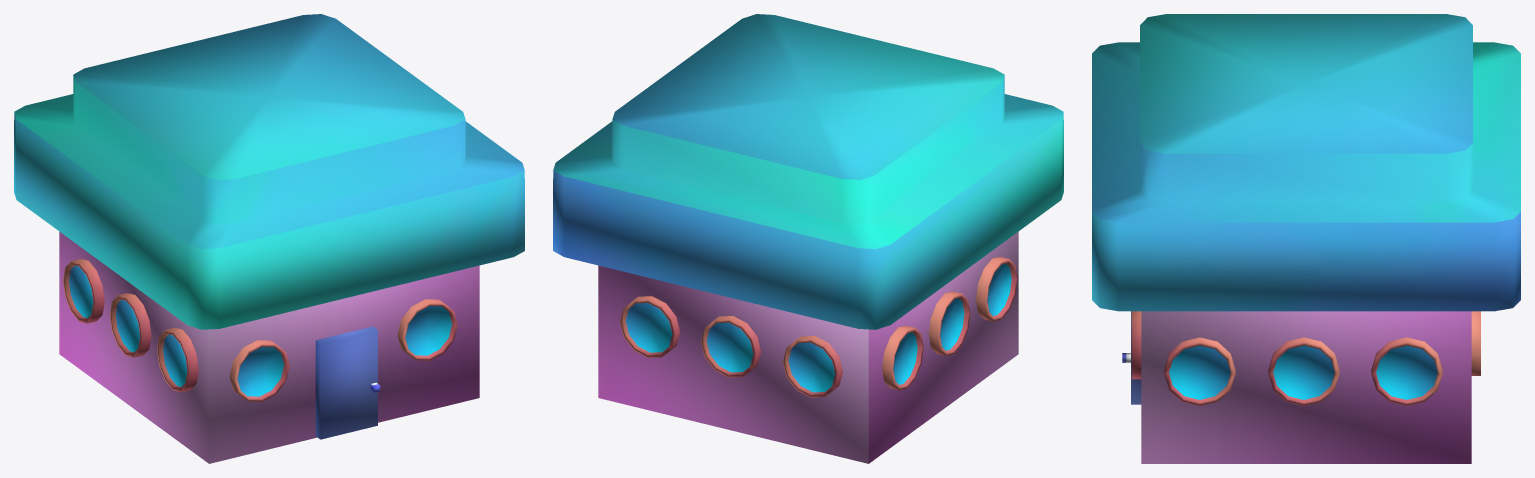
File: House7.fbx
3 renders of one model, left to right at view 1: azimuth 30°, elevation 25°; view 2: azimuth 150°, elevation 25°; view 3: azimuth 270°, elevation 25°, orthographic. The views are drawn at different scales.
Visible parts, largest first — view 1: House.7; view 2: House.7; view 3: House.7.
Part boxes in pixels (bbox=[...]): House.7: bbox=[14, 14, 524, 463]; House.7: bbox=[553, 14, 1063, 463]; House.7: bbox=[1092, 14, 1520, 463].
Size of the model in its own units: 796 by 634 by 801.
Materials: 1 (1 with a texture image).
